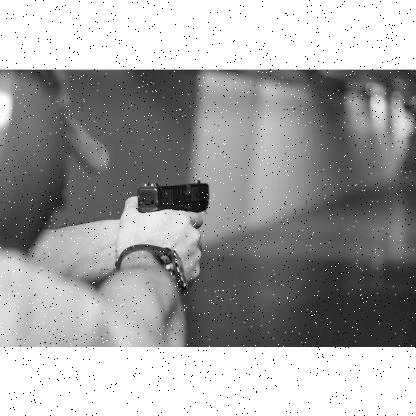gun: (134, 178, 210, 275)
